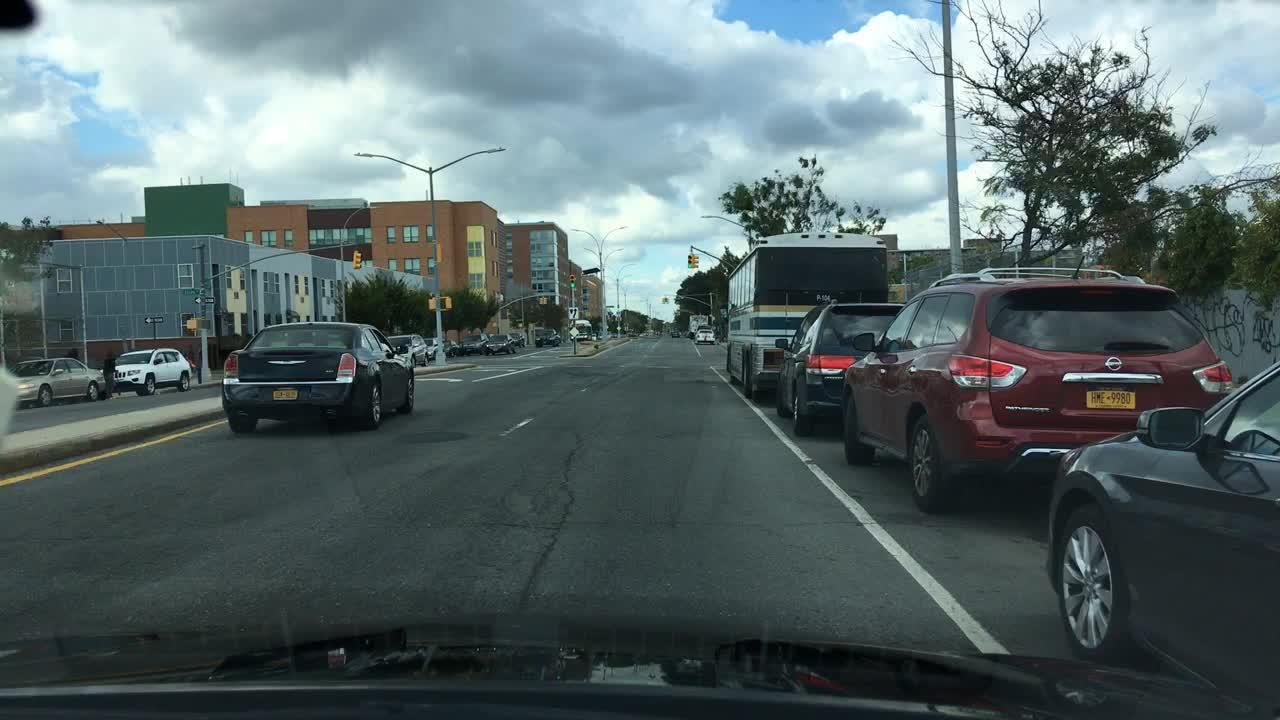Chrysler: (264, 355, 315, 369)
Nissan: (1100, 355, 1132, 377)
